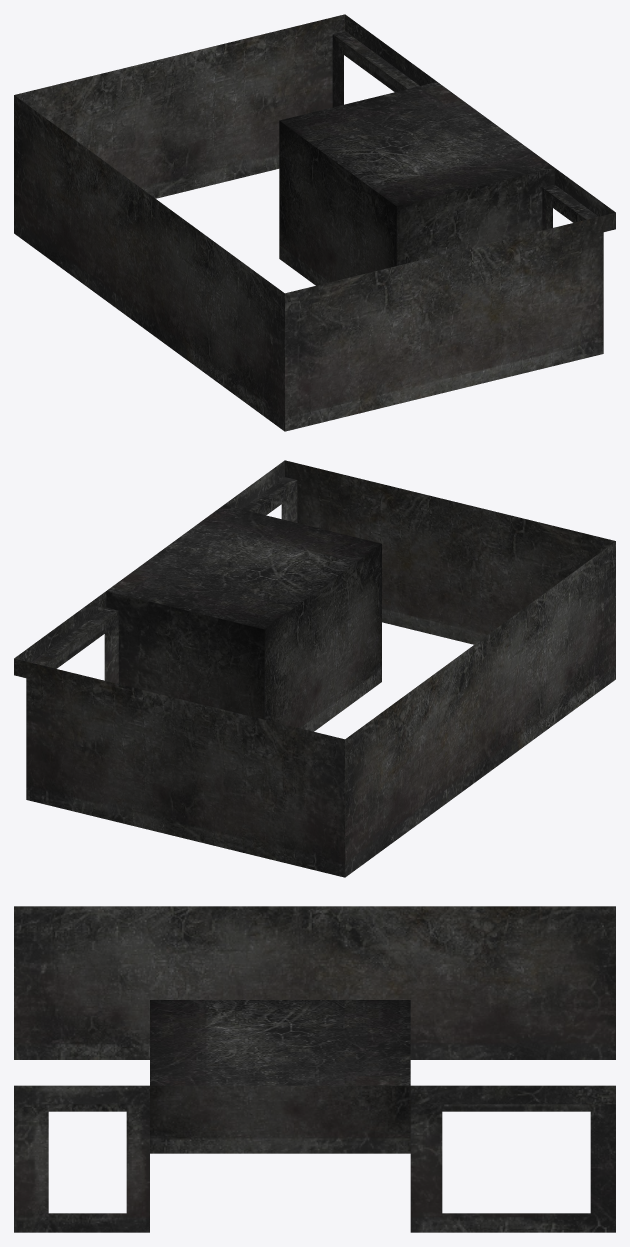
Rendered from GroundBase.FBX.
The picture shows the model from 3 angles, top to bottom: view 1: azimuth 30°, elevation 25°; view 2: azimuth 150°, elevation 25°; view 3: azimuth 270°, elevation 25°; orthographic projection. The views are drawn at different scales.
Visible parts, largest first — view 1: GroundBase; view 2: GroundBase; view 3: GroundBase.
Part boxes in pixels (box(x1,y1,x2,y2)): GroundBase: box(14, 14, 615, 431); GroundBase: box(14, 460, 615, 877); GroundBase: box(14, 906, 615, 1232).
Bounding box in the file's own units: 1330 × 531 × 1884.
1 material, 1 textured.
